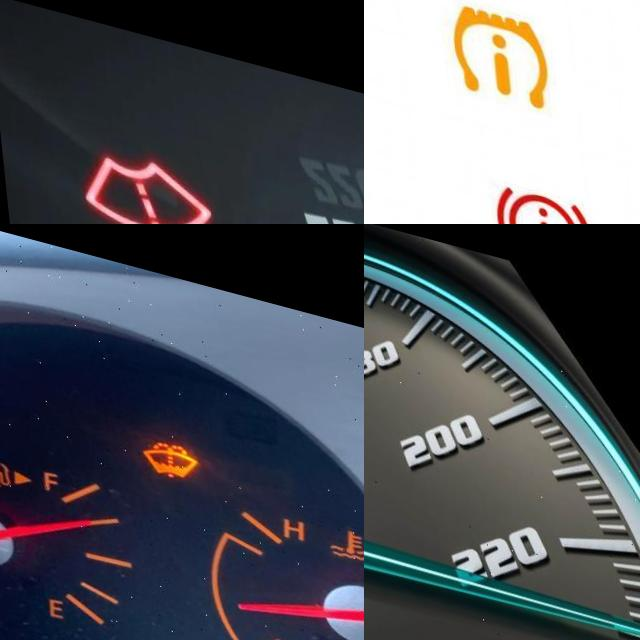Washer Fluid: (137, 416, 196, 467)
